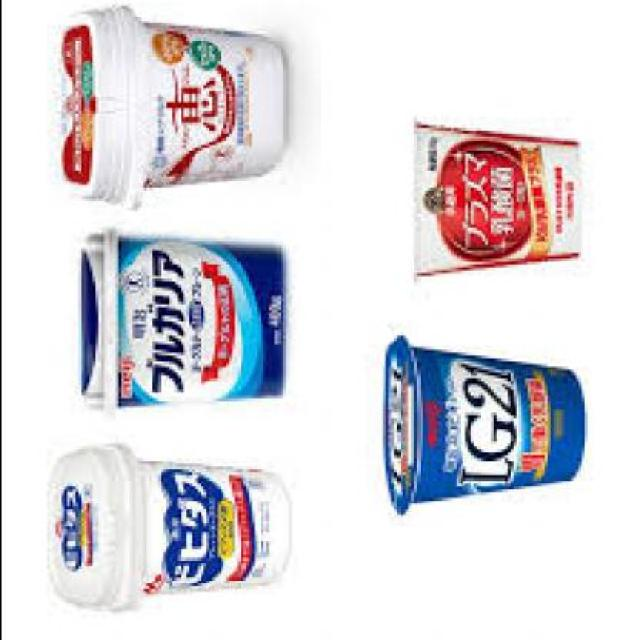PLASTIC: (57, 9, 281, 216), (44, 447, 284, 615), (74, 230, 281, 421), (380, 338, 578, 518), (407, 122, 581, 287), (54, 9, 137, 213), (42, 446, 140, 617), (74, 231, 117, 418)
